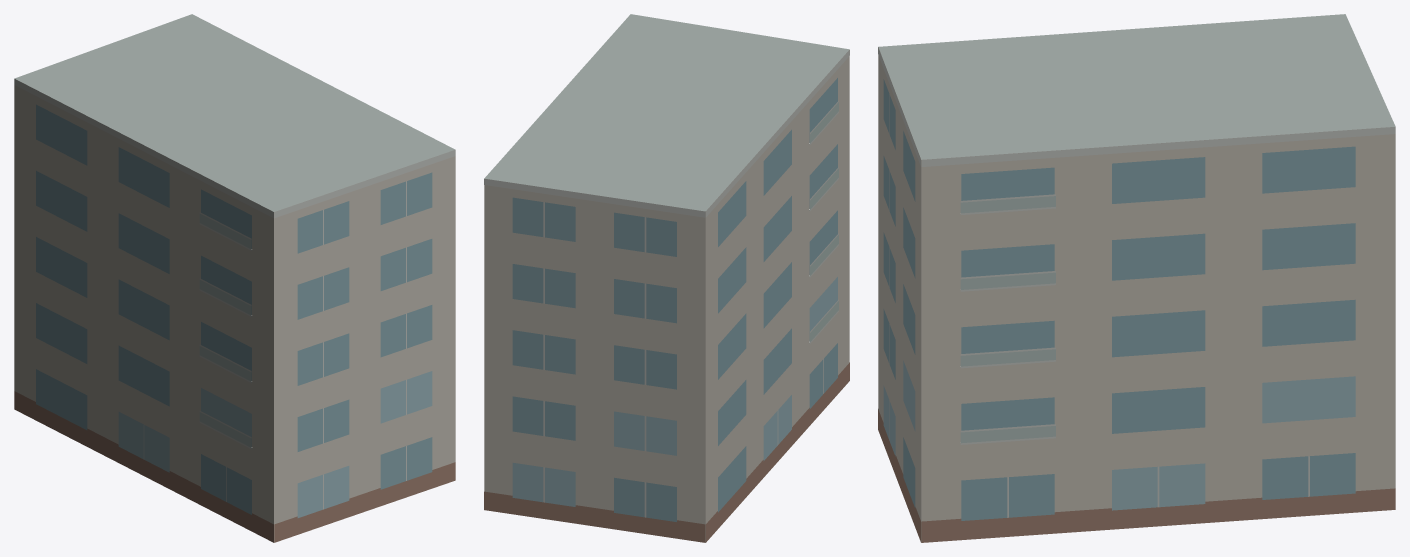
File: survey-upis-32931414.glb
The picture shows the model from 3 angles, left to right: view 1: azimuth 30°, elevation 25°; view 2: azimuth 150°, elevation 25°; view 3: azimuth 270°, elevation 25°; orthographic projection. The views are drawn at different scales.
Parts seen in each view (by area): view 1: survey-upis-32931414.tmp; view 2: survey-upis-32931414.tmp; view 3: survey-upis-32931414.tmp.
Boxes of the visible parts, x1=… form: survey-upis-32931414.tmp: x1=14, y1=14, x2=455, y2=542; survey-upis-32931414.tmp: x1=484, y1=14, x2=849, y2=542; survey-upis-32931414.tmp: x1=878, y1=14, x2=1395, y2=542.
Size of the model in its own units: 10.46 by 12.8 by 15.69.
